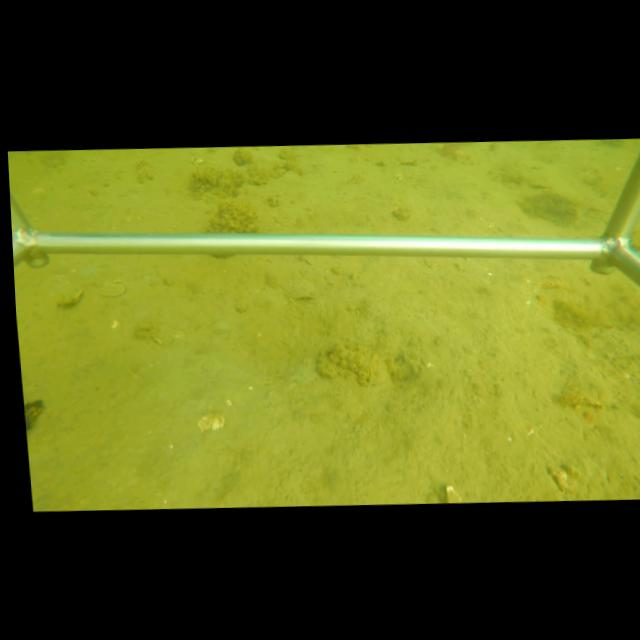Oyster-Closed: (366, 351, 393, 388), (54, 278, 84, 310)
